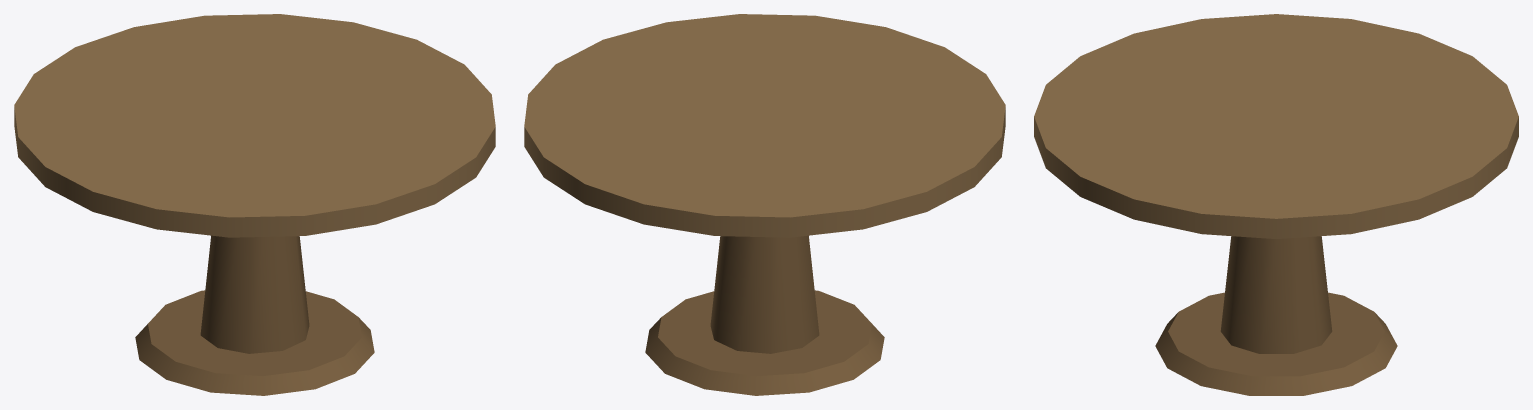
File: round-table.glb
The picture shows the model from 3 angles, left to right: view 1: azimuth 30°, elevation 25°; view 2: azimuth 150°, elevation 25°; view 3: azimuth 270°, elevation 25°; orthographic projection.
Bounding box in the file's own units: 0.76 × 0.3975 × 0.76.
